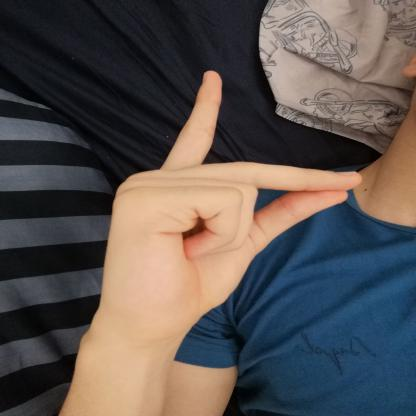TAA: (85, 60, 374, 345)
